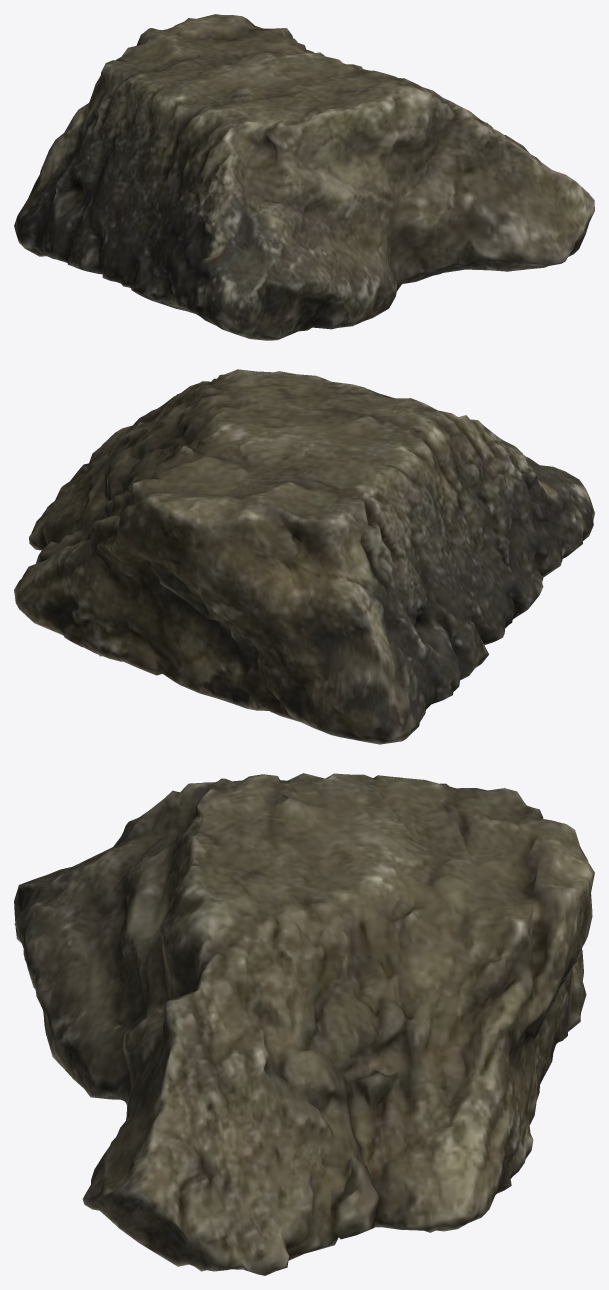
File: rock_moss_set_02_1k.gltf
3 renders of one model, top to bottom at view 1: azimuth 30°, elevation 25°; view 2: azimuth 150°, elevation 25°; view 3: azimuth 270°, elevation 25°, orthographic. The views are drawn at different scales.
Visible parts, largest first — view 1: rock_moss_set_02_rock08; view 2: rock_moss_set_02_rock08; view 3: rock_moss_set_02_rock08.
Boxes of the visible parts, x1=… form: rock_moss_set_02_rock08: x1=14, y1=14, x2=594, y2=340; rock_moss_set_02_rock08: x1=14, y1=369, x2=594, y2=744; rock_moss_set_02_rock08: x1=14, y1=773, x2=594, y2=1275.
Bounding box in the file's own units: 1.21 × 0.5287 × 0.9836.
1 material, 1 textured.
